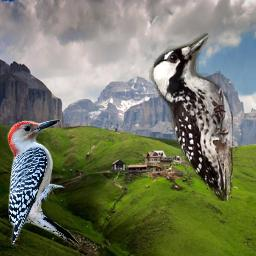Woodpecker: (149, 33, 233, 201), (1, 114, 86, 256)
